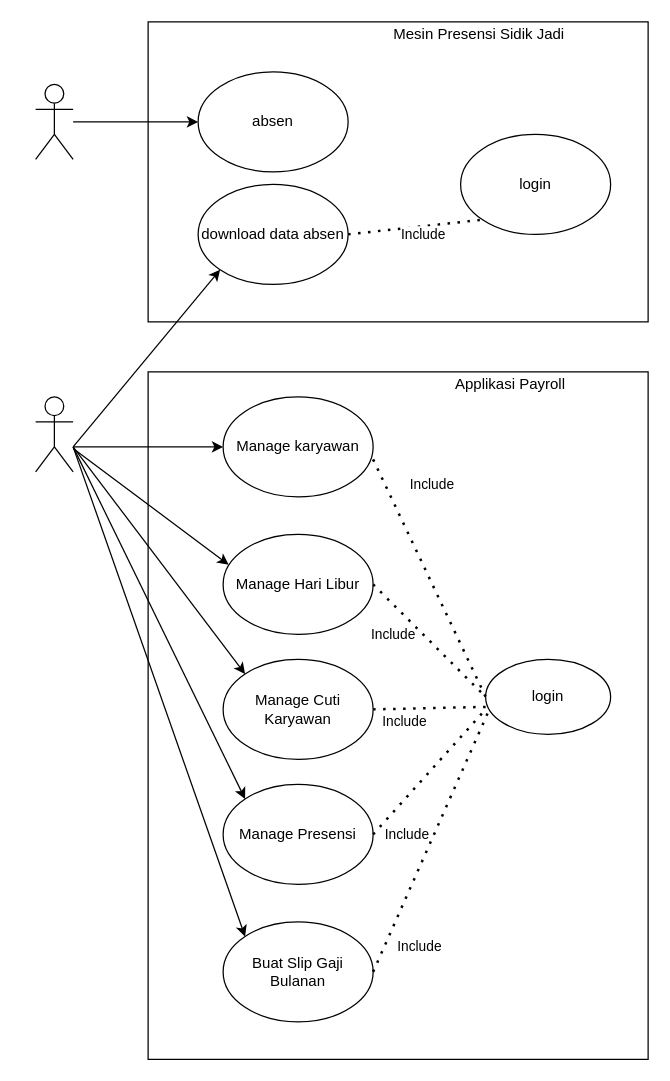
Image size: 670x1081. Some labels were removed from this diagram. Each missing label, with the box of its shape:
Admin: (34, 396, 73, 472)
Karyawan: (34, 83, 73, 159)
